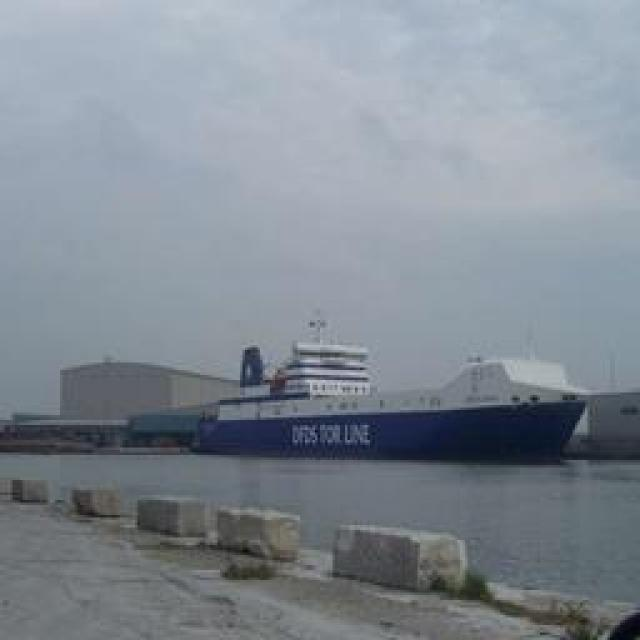CIV_Ship: (112, 334, 598, 458)
